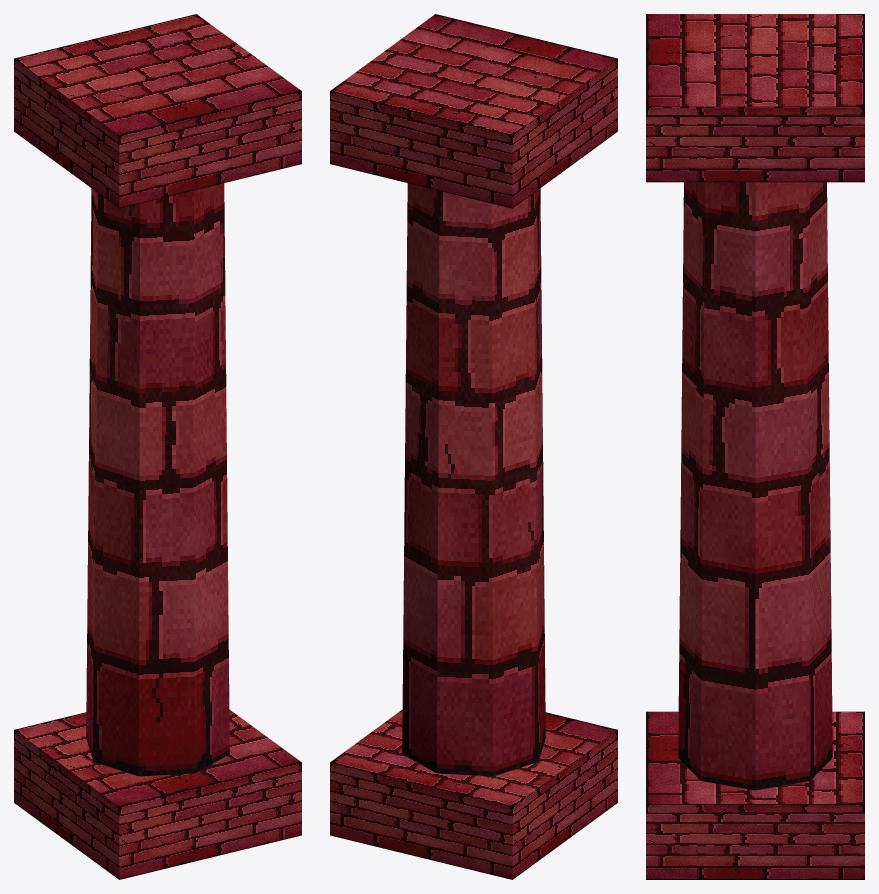
The model's file is pilar_de_sangue.glb.
The picture shows the model from 3 angles, left to right: view 1: azimuth 30°, elevation 25°; view 2: azimuth 150°, elevation 25°; view 3: azimuth 270°, elevation 25°; orthographic projection. The views are drawn at different scales.
Parts seen in each view (by area): view 1: pilar_de_sangue; view 2: pilar_de_sangue; view 3: pilar_de_sangue.
Part boxes in pixels (left/top/right/bottom): pilar_de_sangue: left=14, top=14, right=301, bottom=879; pilar_de_sangue: left=330, top=14, right=617, bottom=879; pilar_de_sangue: left=646, top=14, right=864, bottom=879.
Size of the model in its own units: 0.68 by 2.65 by 0.68.
Materials: 1 (1 with a texture image).
